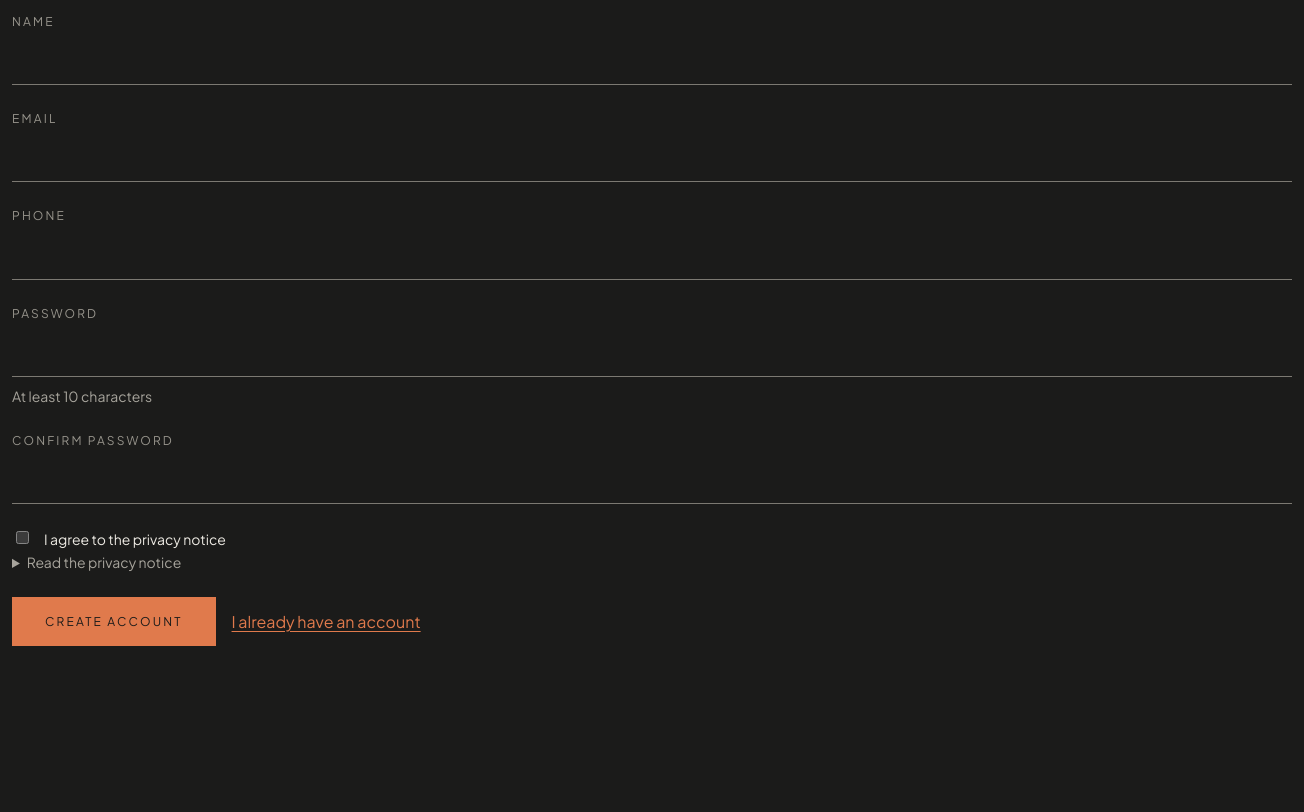
RegisterForm › shows server field errors on their fields
In the field labelled "Name": (652, 62) [12,39,1292,85], type "Alex Rivera"
In the field labelled "Email": (652, 159) [12,136,1292,182], type "alex@example.com"
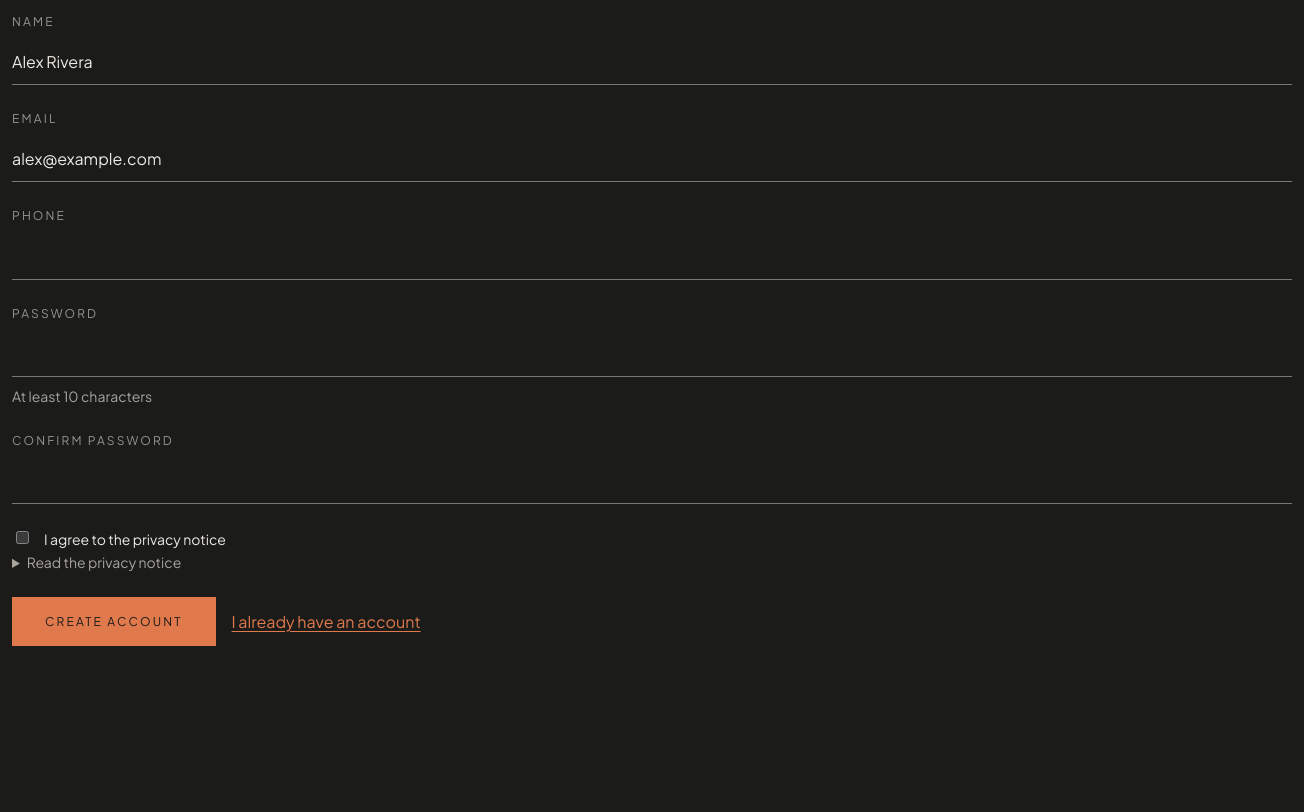
In the field labelled "Phone": (652, 257) [12,234,1292,280], type "+63 917 555 0142"
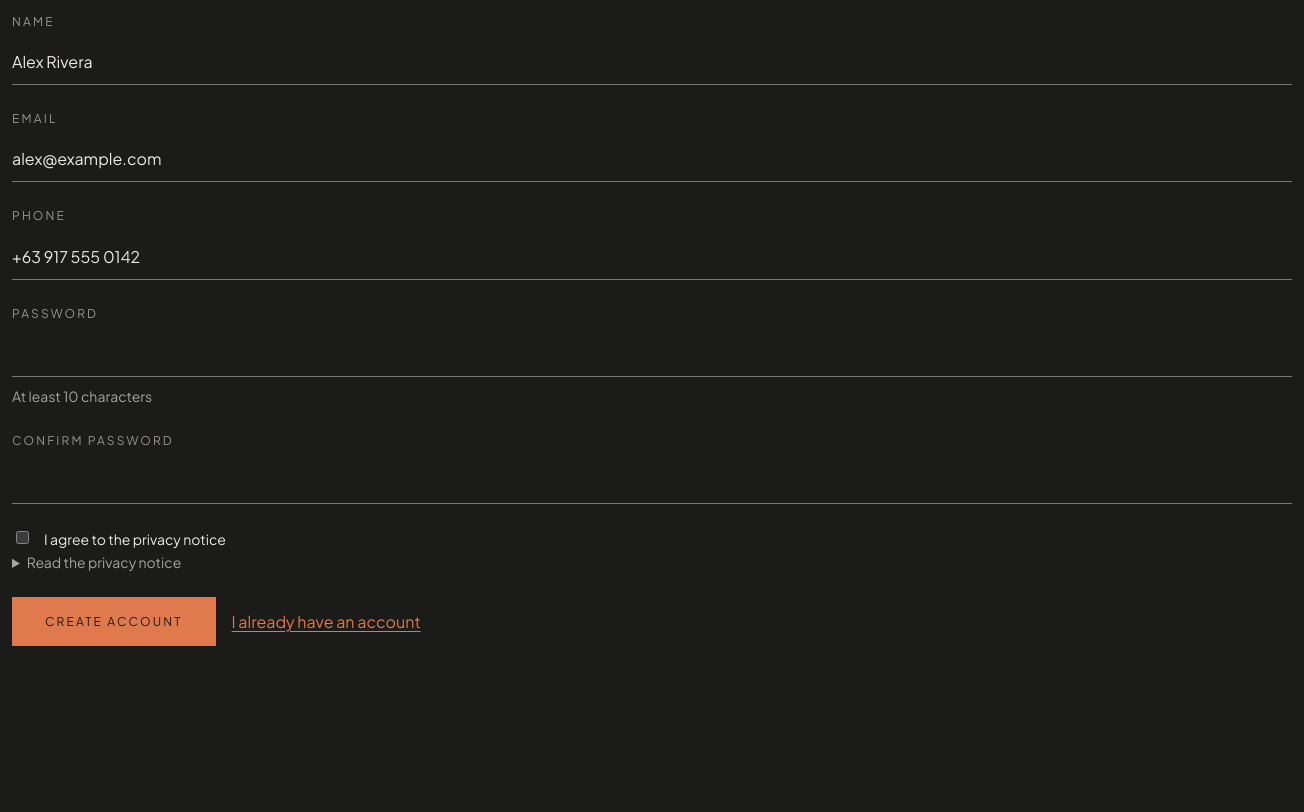
In the password field labelled "Password": (652, 354) [12,331,1292,377], type "copper-lantern-42"
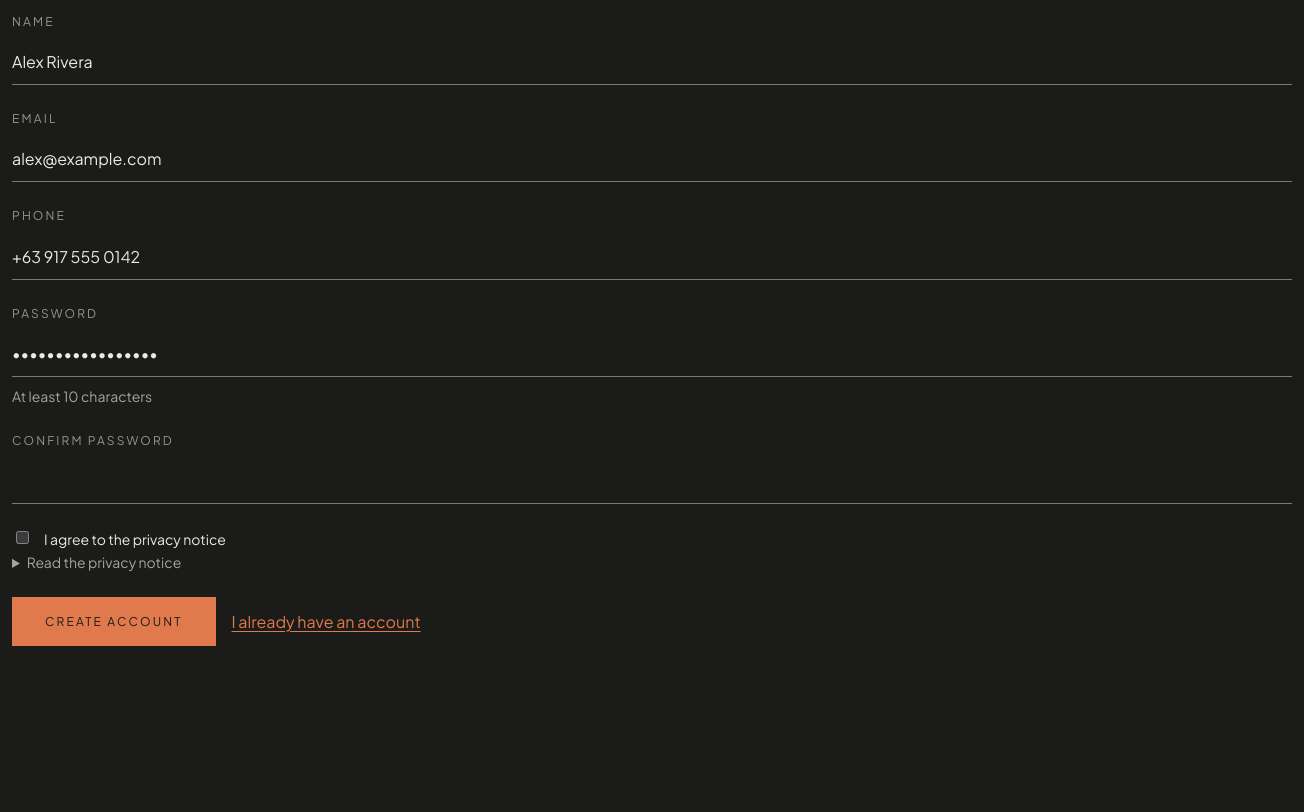
In the password field labelled "Confirm password": (652, 481) [12,458,1292,504], type "copper-lantern-42"
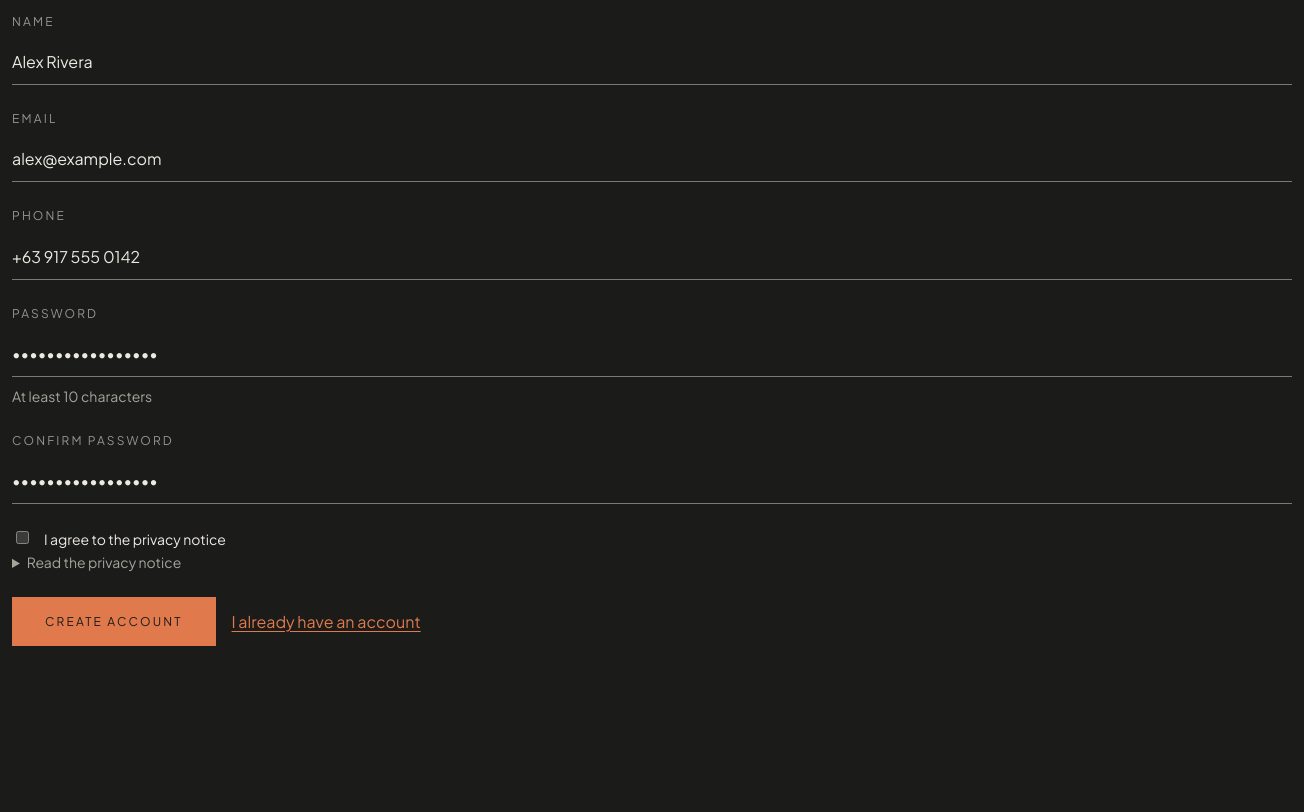
Click the checkbox labelled "I agree to the privacy notice": (22, 538) [16,531,29,544]
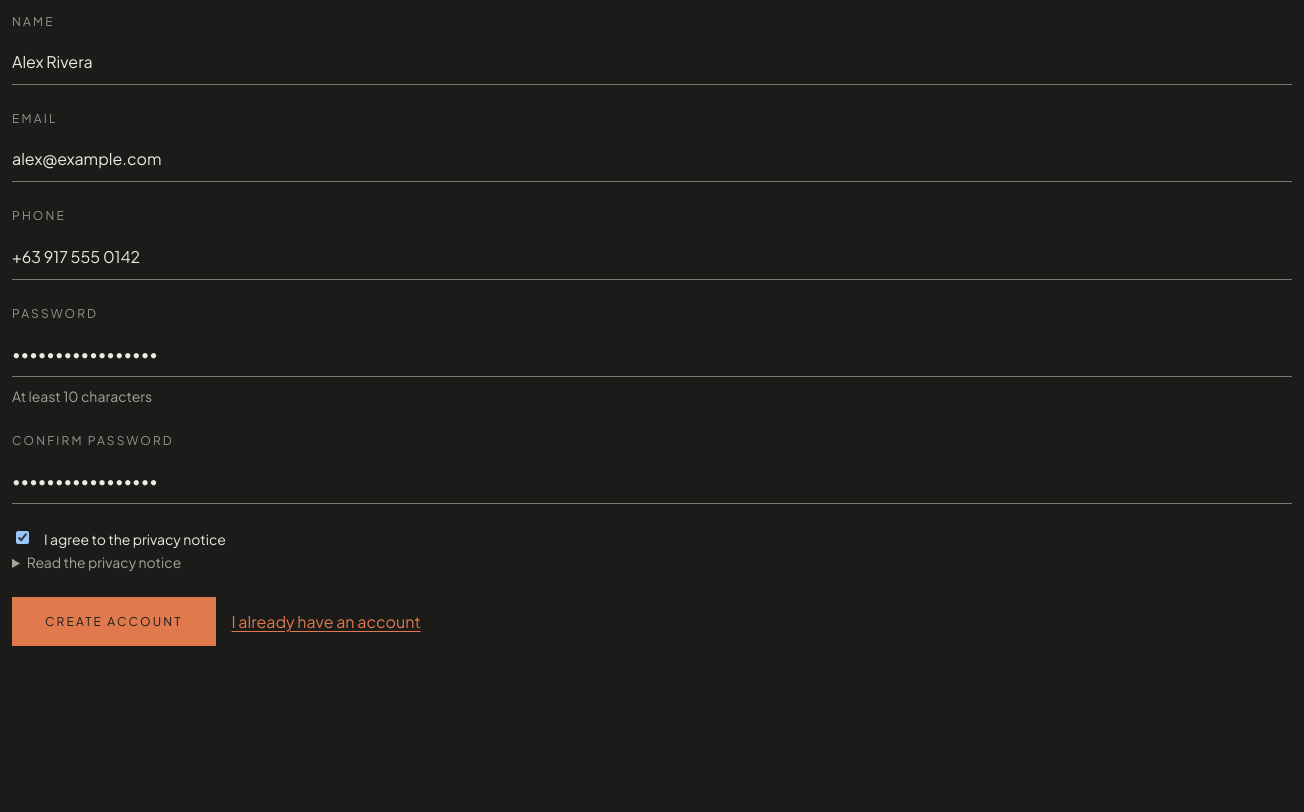
Click the button "Create account": (114, 622) [12,597,216,646]
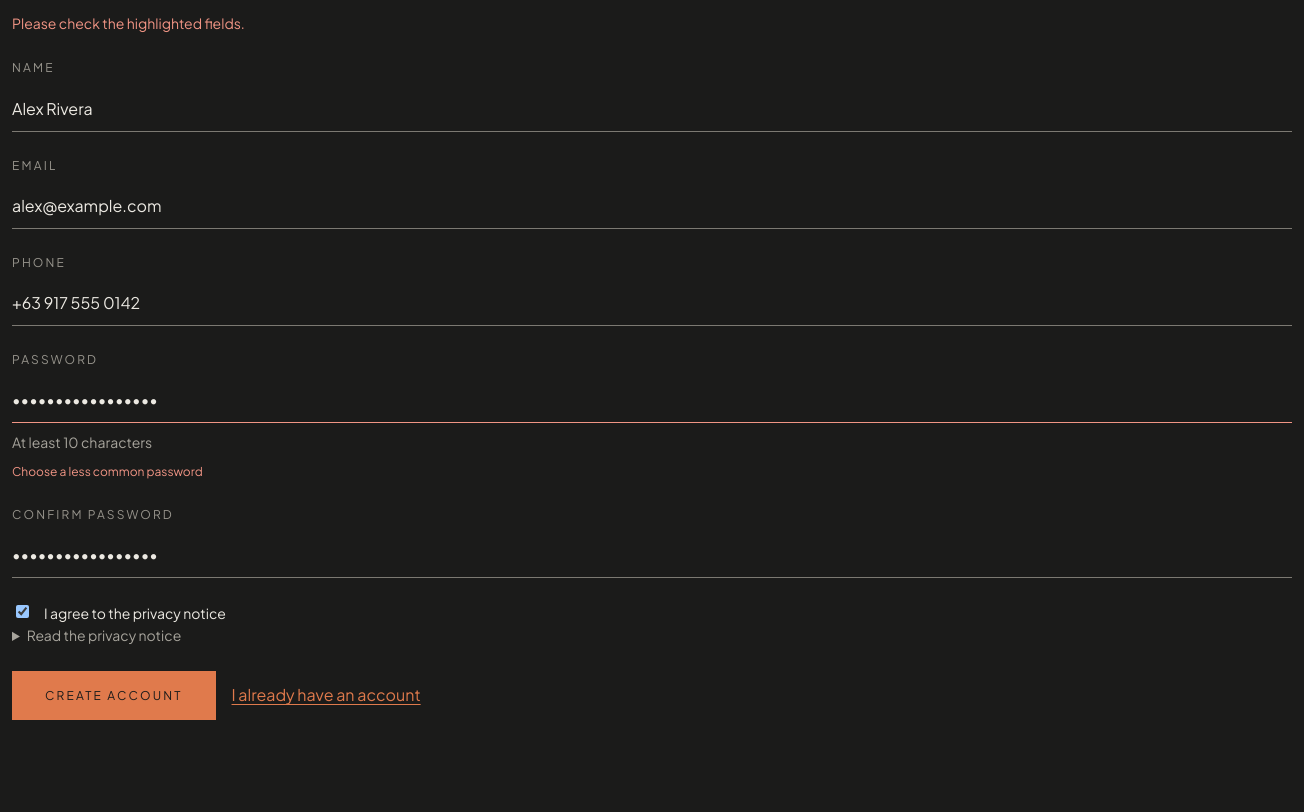
Expected: the text "Choose a less common password" is shown, [12,464,203,478]
Expected: the text "Please check the highlighted fields." is shown, [12,14,245,32]
